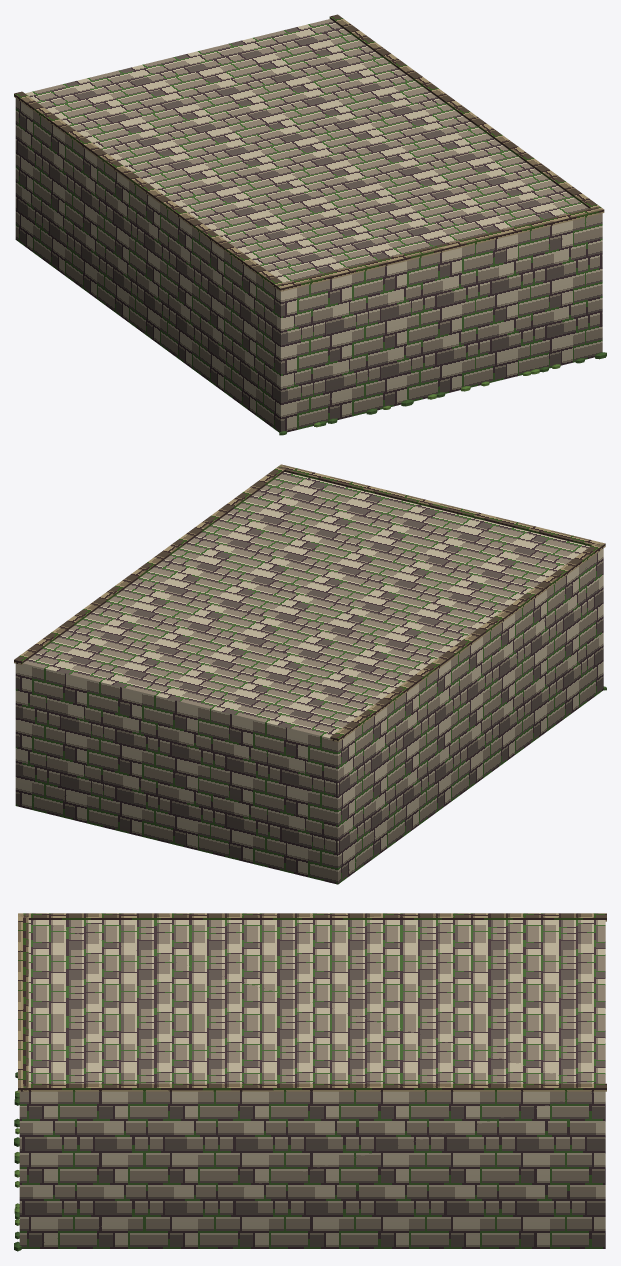
The model's file is scene_wall_n.glb.
The picture shows the model from 3 angles, top to bottom: view 1: azimuth 30°, elevation 25°; view 2: azimuth 150°, elevation 25°; view 3: azimuth 270°, elevation 25°; orthographic projection. The views are drawn at different scales.
Parts seen in each view (by area): view 1: scene_wall_n; view 2: scene_wall_n; view 3: scene_wall_n.
Boxes of the visible parts, x1,y1,x2,y2 form: scene_wall_n: [14, 14, 606, 435]; scene_wall_n: [14, 464, 606, 884]; scene_wall_n: [14, 913, 606, 1251].
Size of the model in its own units: 14.27 by 6.17 by 20.24.
Materials: 2 (1 with a texture image).
